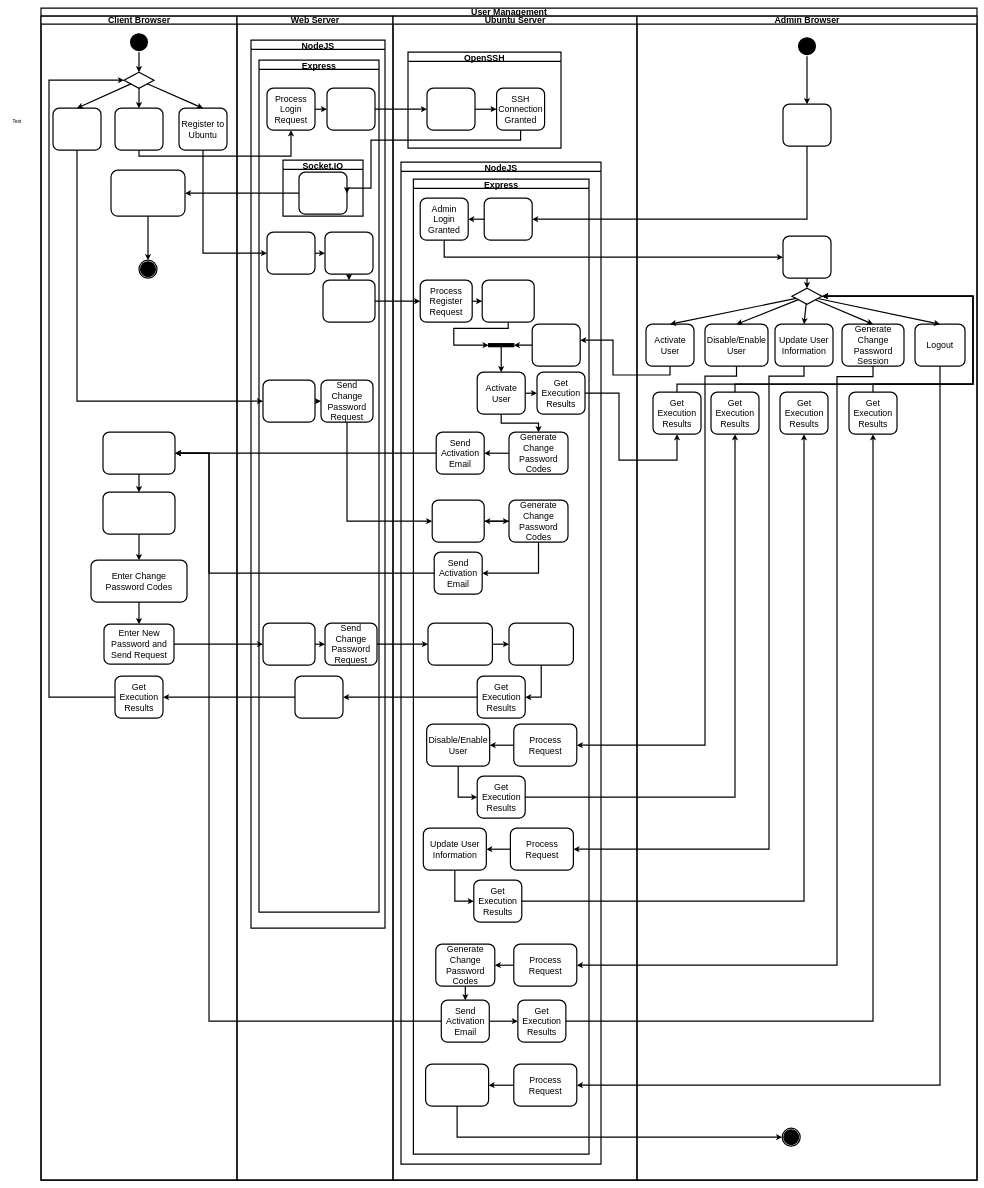
The diagram is 984 pixels wide and 1188 high, and some of its shapes have lost their labels. The centre of each missing label's shape, as x and y in pixels:
"Change Password" goes at point (76, 129).
"Change User Password" goes at point (541, 644).
"Check Change Password Codes" goes at point (460, 644).
"Create a new SSH Connection" goes at point (350, 109).
"Create Backup Record" goes at point (348, 253).
"Get Email" goes at point (138, 453).
"Go to Change Password Site" goes at point (138, 513).
"Login Check" goes at point (450, 109).
"Login to Admin Page" goes at point (806, 125).
"Login to Ubuntu" goes at point (138, 129).
"Logout Admin Session" goes at point (457, 1085).
"Preprocess Change Password Request" goes at point (288, 401).
"Preprocess Register Request" goes at point (290, 253).
"Preprocess Request" goes at point (288, 644).
"Process Activate User Request" goes at point (556, 345).
"Process Admin Login" goes at point (508, 219).
"Process Change Password Request" goes at point (458, 521).
"Redirected To Admin Site" goes at point (806, 257).
"Save a Record to Database" goes at point (508, 301).
"Send Request to Ubuntu Server" goes at point (348, 301).
"Start a SSH Connection in Socket.IO" goes at point (322, 193).
"Transfer Execution Results" goes at point (318, 697).
"Use Ubuntu Computer via Terminal and File Explorer GUI" goes at point (147, 193).
